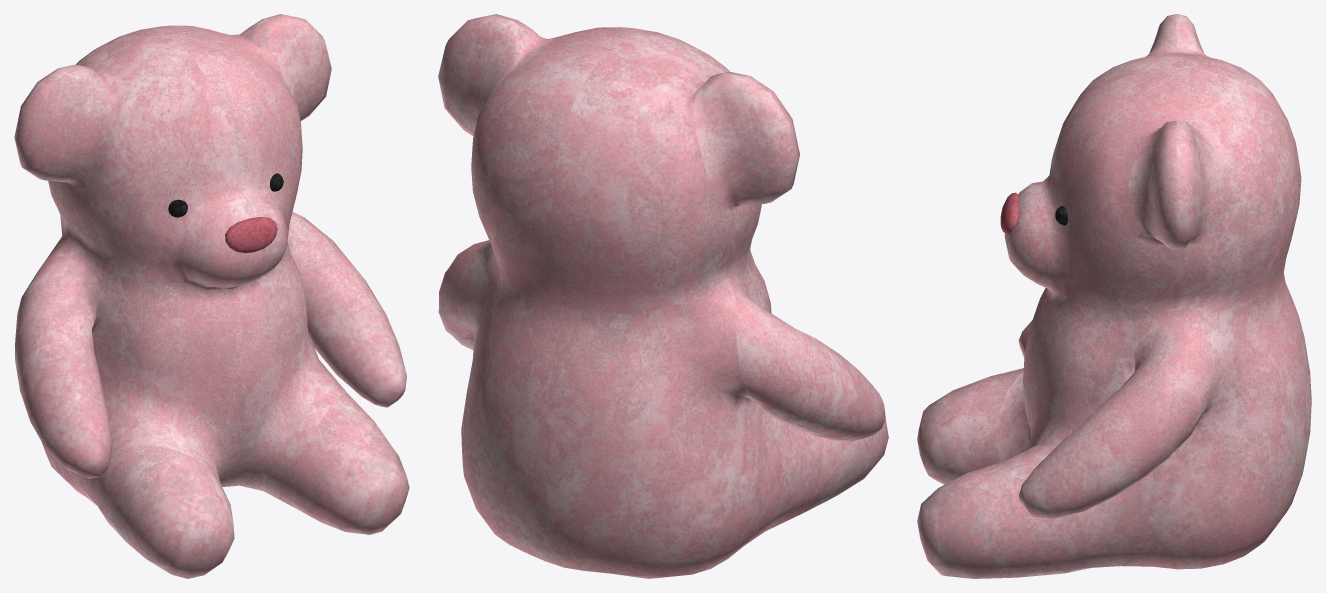
The model's file is Pink Bear.fbx.
The picture shows the model from 3 angles, left to right: view 1: azimuth 30°, elevation 25°; view 2: azimuth 150°, elevation 25°; view 3: azimuth 270°, elevation 25°; orthographic projection. The views are drawn at different scales.
Parts seen in each view (by area): view 1: Cube.001; view 2: Cube.001; view 3: Cube.001.
Boxes of the visible parts, x1=… form: Cube.001: x1=14, y1=14, x2=409, y2=578; Cube.001: x1=438, y1=14, x2=888, y2=578; Cube.001: x1=917, y1=14, x2=1311, y2=578.
Bounding box in the file's own units: 56.08 × 66.13 × 51.21.
Materials: 1 (1 with a texture image).
